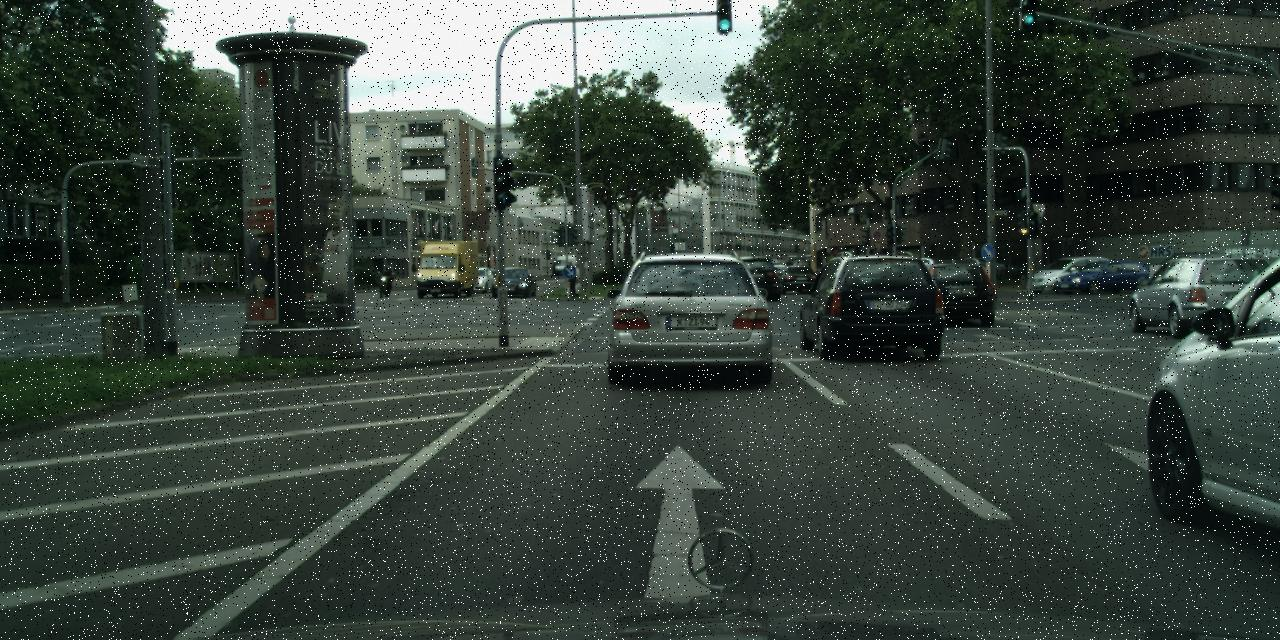ped: (564, 260, 577, 294), (381, 266, 391, 290)
